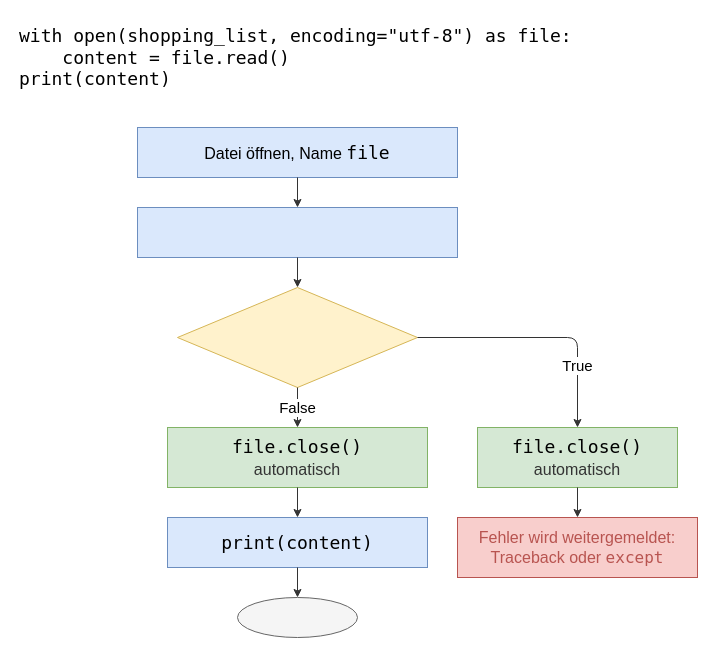
Some shapes in this 715 by 655 pixel diagram are drawn without their labels. The box of each missing label's shape, as (x1, y1, x2, y2) in pixels:
content = file.read(): (136, 206, 458, 258)
Ende: (236, 596, 358, 638)
Fehler im Block?: (176, 286, 418, 388)
